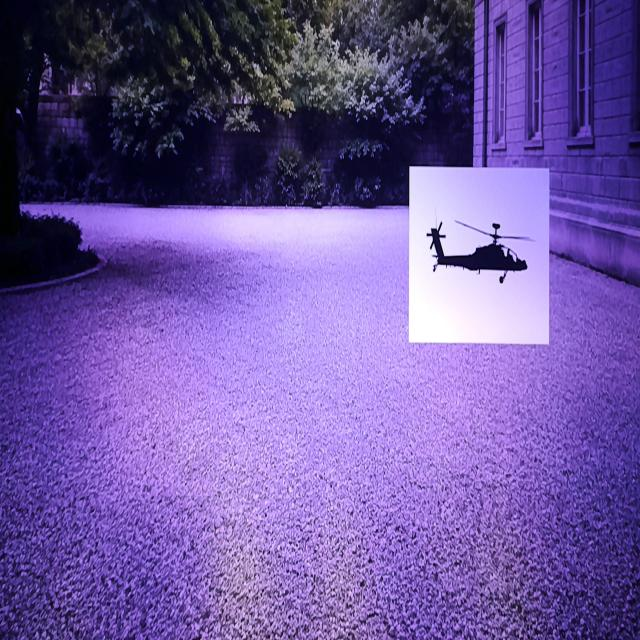Apache friendly: (427, 221, 533, 283)
